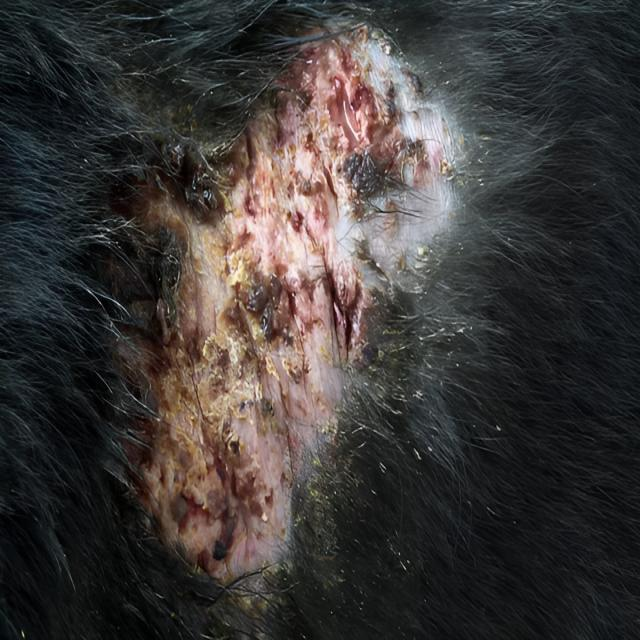allergic dermatitis: (111, 25, 459, 595)
